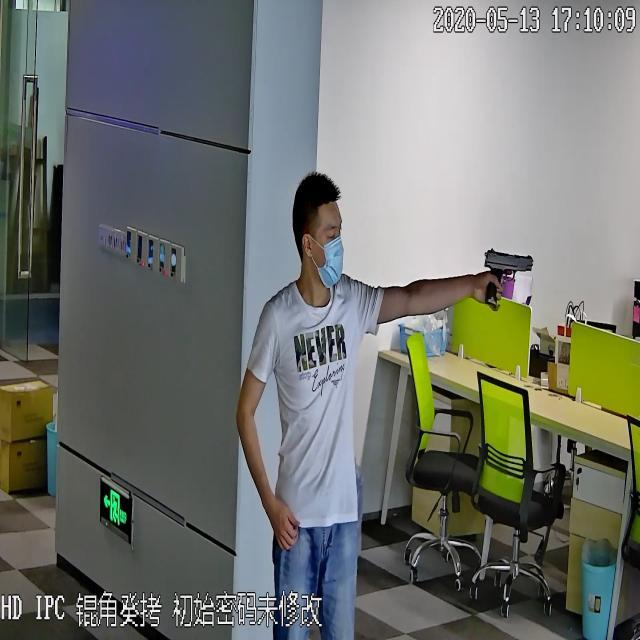gun: (481, 241, 536, 312)
